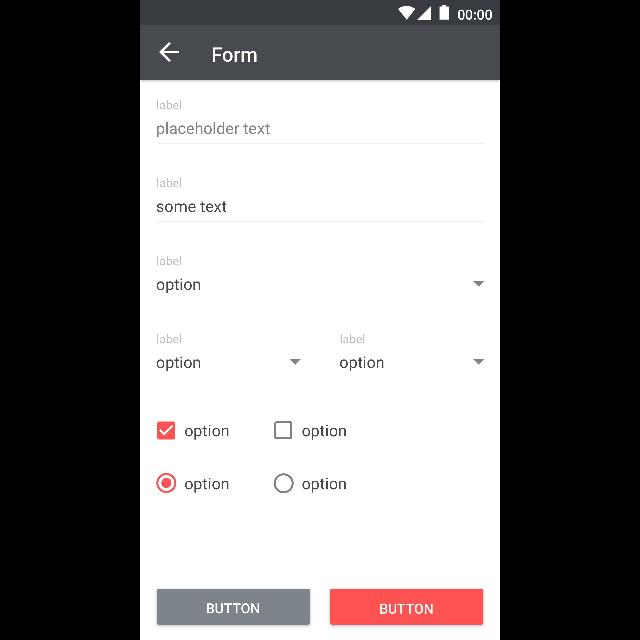checkbox: (274, 473, 294, 492), (157, 473, 176, 492), (274, 421, 292, 439), (157, 421, 175, 439)
icon: (158, 40, 180, 62)
input: (155, 120, 487, 146), (156, 200, 486, 223)
spinner: (156, 278, 488, 302), (156, 354, 304, 380), (340, 354, 486, 380)
text: (156, 122, 270, 136), (157, 200, 227, 212), (211, 46, 257, 62), (156, 278, 200, 294), (156, 356, 200, 372), (302, 424, 346, 440), (341, 356, 384, 372), (302, 478, 346, 492), (186, 425, 228, 439), (186, 479, 228, 493), (156, 332, 184, 346), (155, 177, 183, 189), (156, 98, 182, 110), (156, 254, 182, 266), (339, 333, 365, 345)
textbutton: (157, 588, 311, 626), (330, 588, 484, 626)
toolbar: (140, 26, 500, 80)
uppertaskbar: (140, 1, 500, 26)
